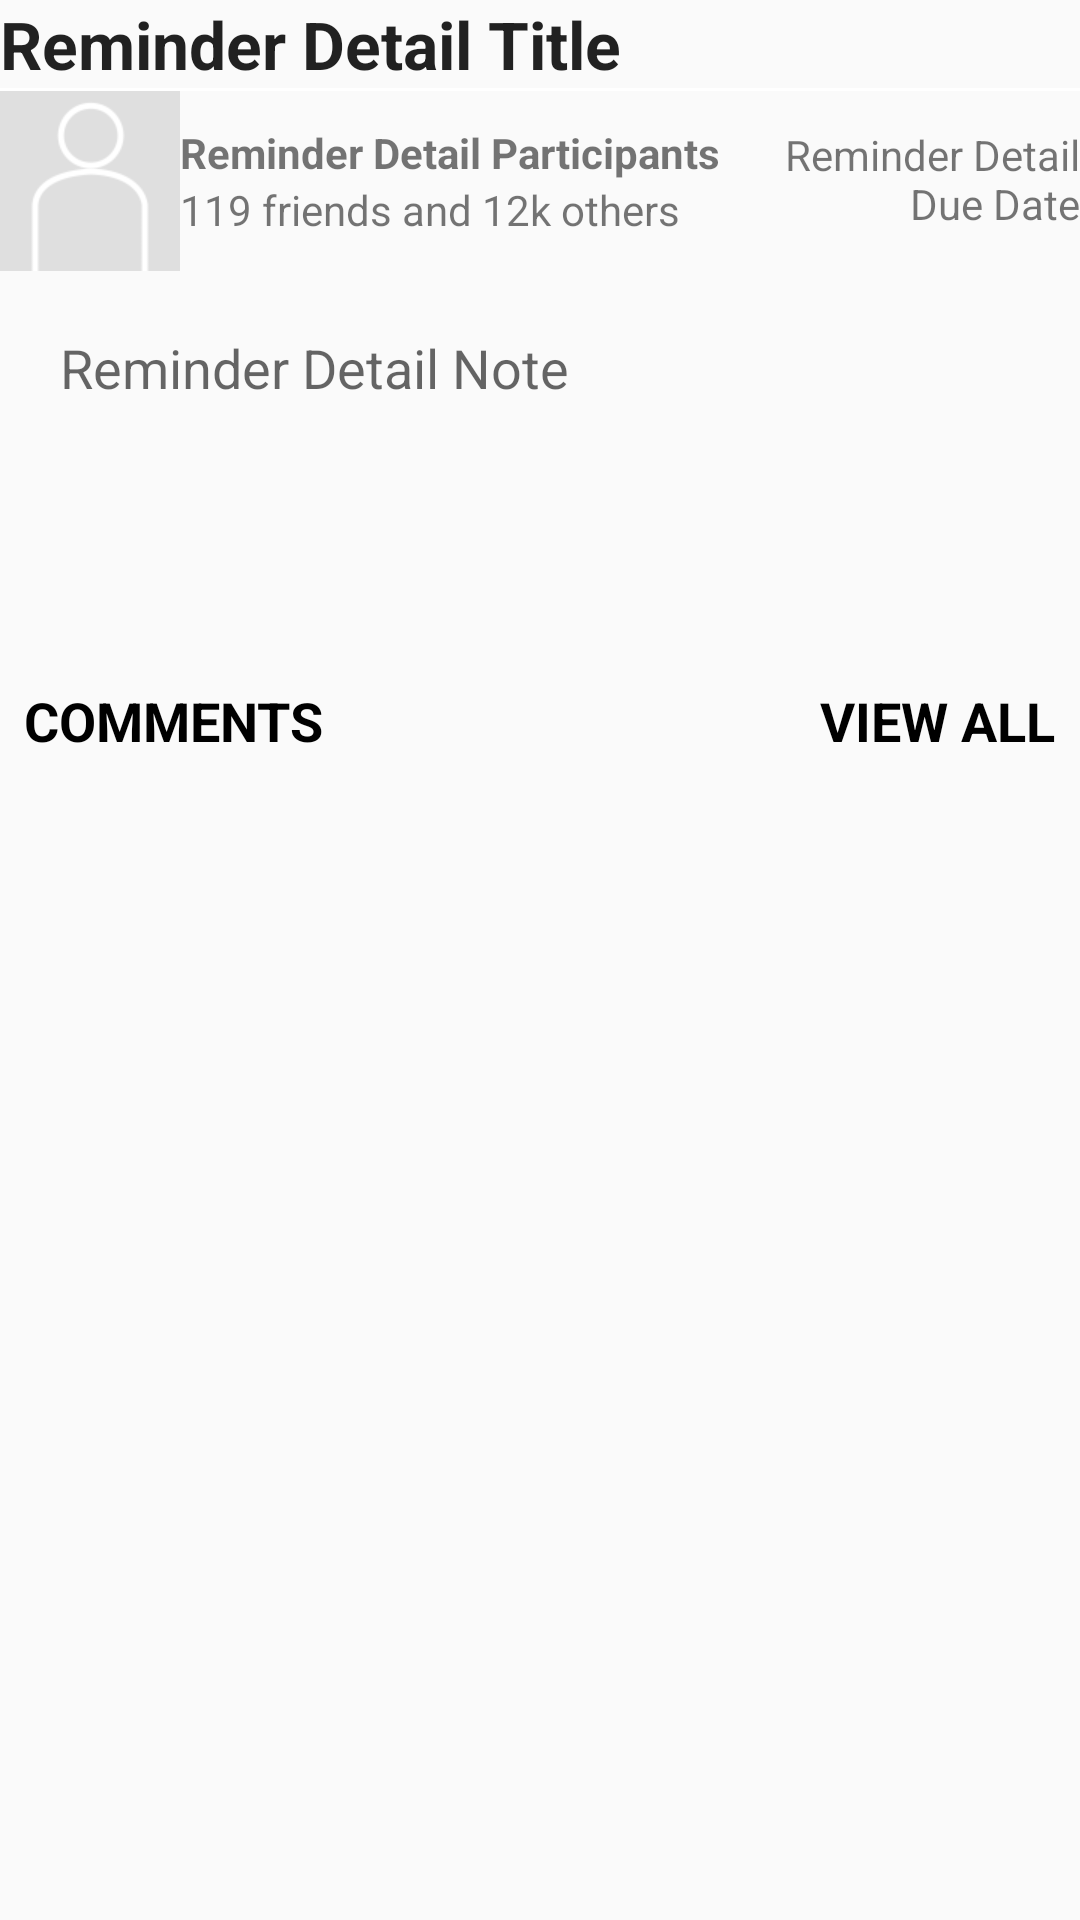

Point at icon controls on the screen. Image size 1080×1920, points as (x,y).
Default Profile Picture: (90,181)
